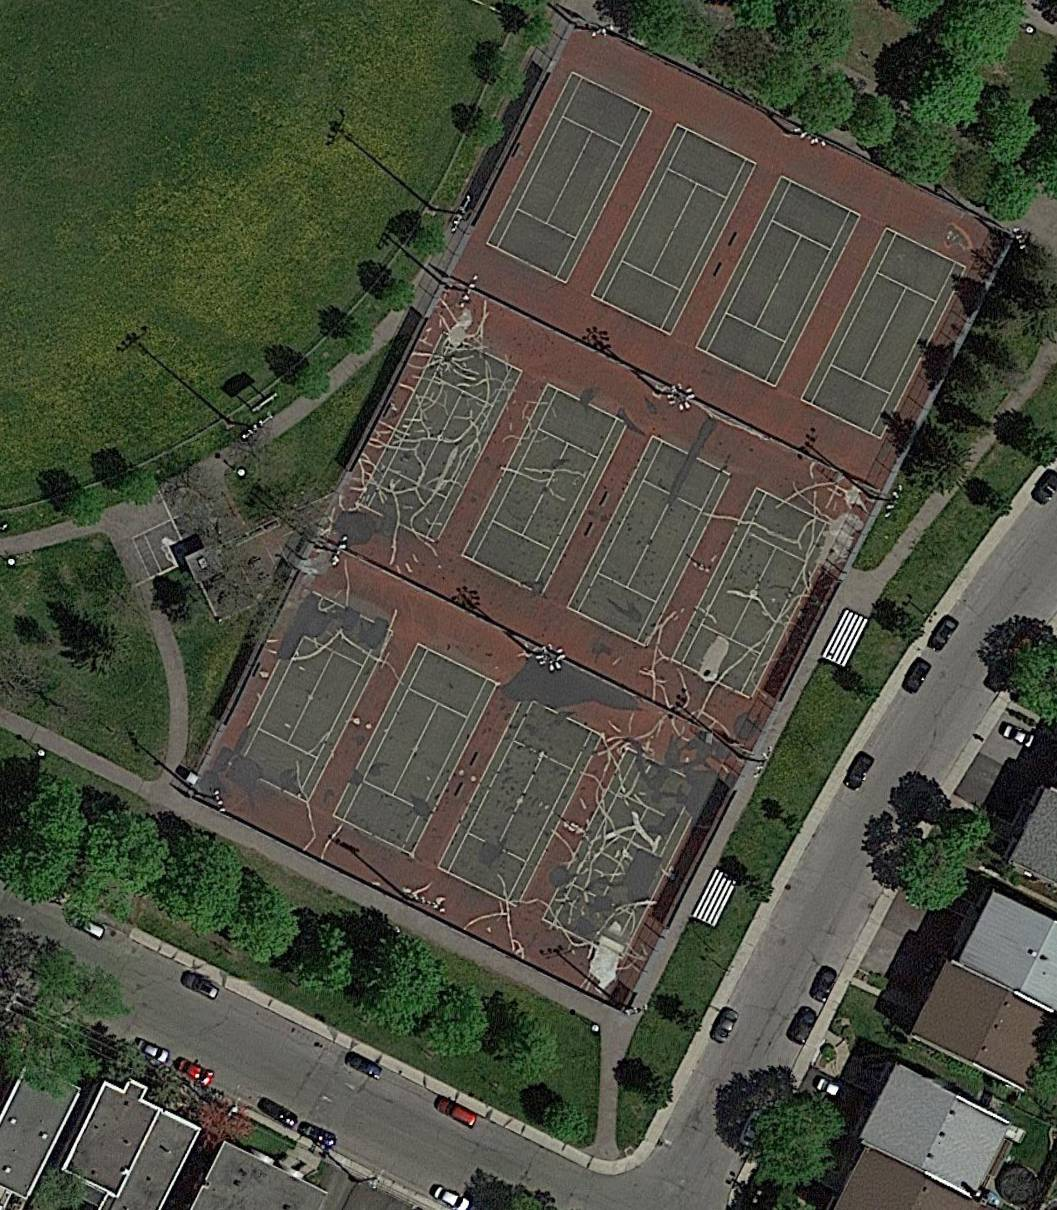small vehicle: (172, 1055, 215, 1089), (436, 1097, 479, 1130), (842, 753, 876, 793), (789, 1007, 822, 1048), (928, 614, 961, 654), (1001, 720, 1040, 753), (901, 659, 933, 696), (132, 1036, 172, 1066), (182, 973, 220, 1004), (345, 1053, 384, 1082), (811, 967, 839, 1008), (709, 1009, 740, 1046)
tennis court: (355, 330, 525, 545), (799, 226, 967, 442), (589, 123, 757, 339), (695, 175, 864, 390), (461, 382, 628, 599), (567, 435, 735, 649), (332, 643, 499, 858), (486, 71, 653, 286), (672, 486, 838, 701), (228, 592, 395, 805), (438, 695, 604, 908), (542, 749, 707, 959)
